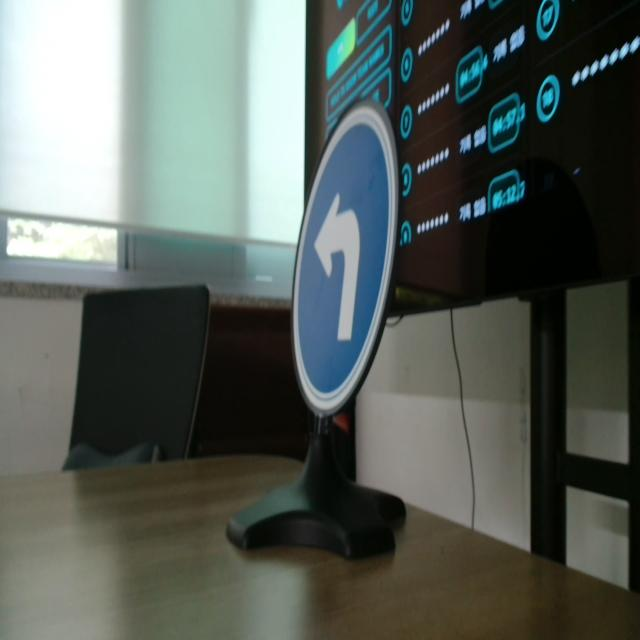left_direction: (271, 80, 412, 435)
